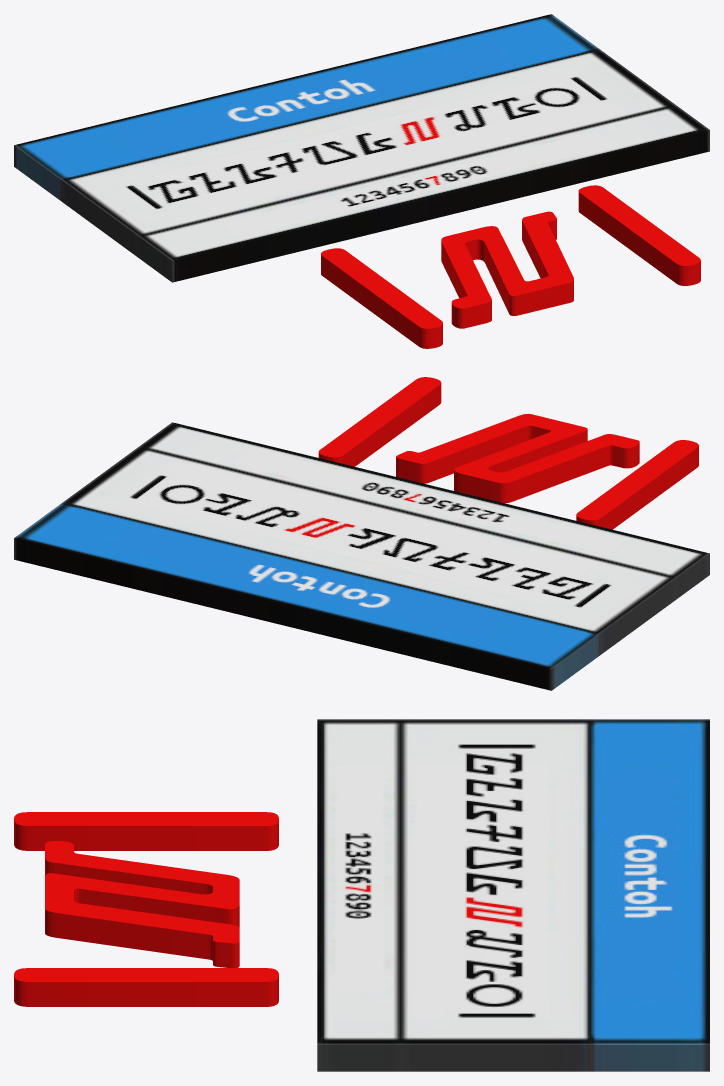
The picture shows the model from 3 angles, top to bottom: view 1: azimuth 30°, elevation 25°; view 2: azimuth 150°, elevation 25°; view 3: azimuth 270°, elevation 25°; orthographic projection. The views are drawn at different scales.
Parts seen in each view (by area): view 1: contoh-7-Angka, Text; view 2: contoh-7-Angka, Text; view 3: contoh-7-Angka, Text.
Boxes of the visible parts, left/top/right/bottom form: contoh-7-Angka: left=14, top=14, right=709, bottom=282; Text: left=321, top=185, right=700, bottom=348; contoh-7-Angka: left=14, top=422, right=709, bottom=690; Text: left=318, top=377, right=698, bottom=529; contoh-7-Angka: left=317, top=719, right=709, bottom=1071; Text: left=14, top=812, right=278, bottom=1006.
Bounding box in the file's own units: 1.96 × 0.11 × 1.77.
2 materials, 1 textured.
